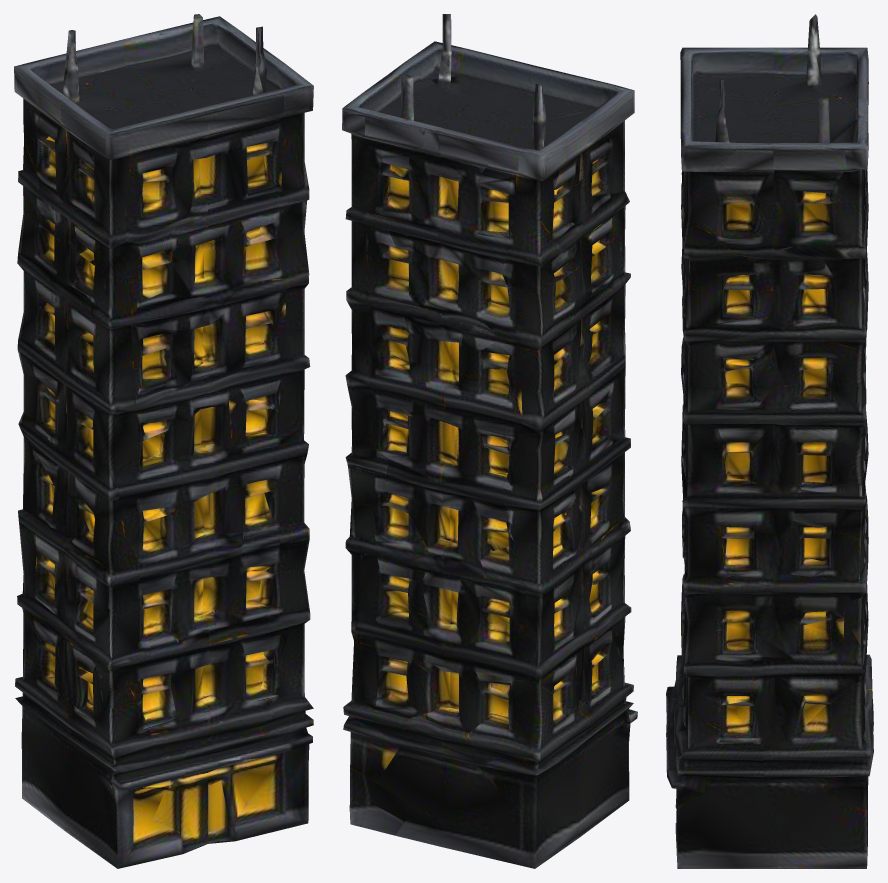
The model's file is building_hi.glb.
3 renders of one model, left to right at view 1: azimuth 30°, elevation 25°; view 2: azimuth 150°, elevation 25°; view 3: azimuth 270°, elevation 25°, orthographic. The views are drawn at different scales.
Parts seen in each view (by area): view 1: mesh_node; view 2: mesh_node; view 3: mesh_node.
Boxes of the visible parts, <box> form: mesh_node: <box>14,14,313,868</box>; mesh_node: <box>342,14,637,868</box>; mesh_node: <box>666,14,873,868</box>.
Bounding box in the file's own units: 0.5258 × 1.9 × 0.4617.
1 material, 1 textured.
